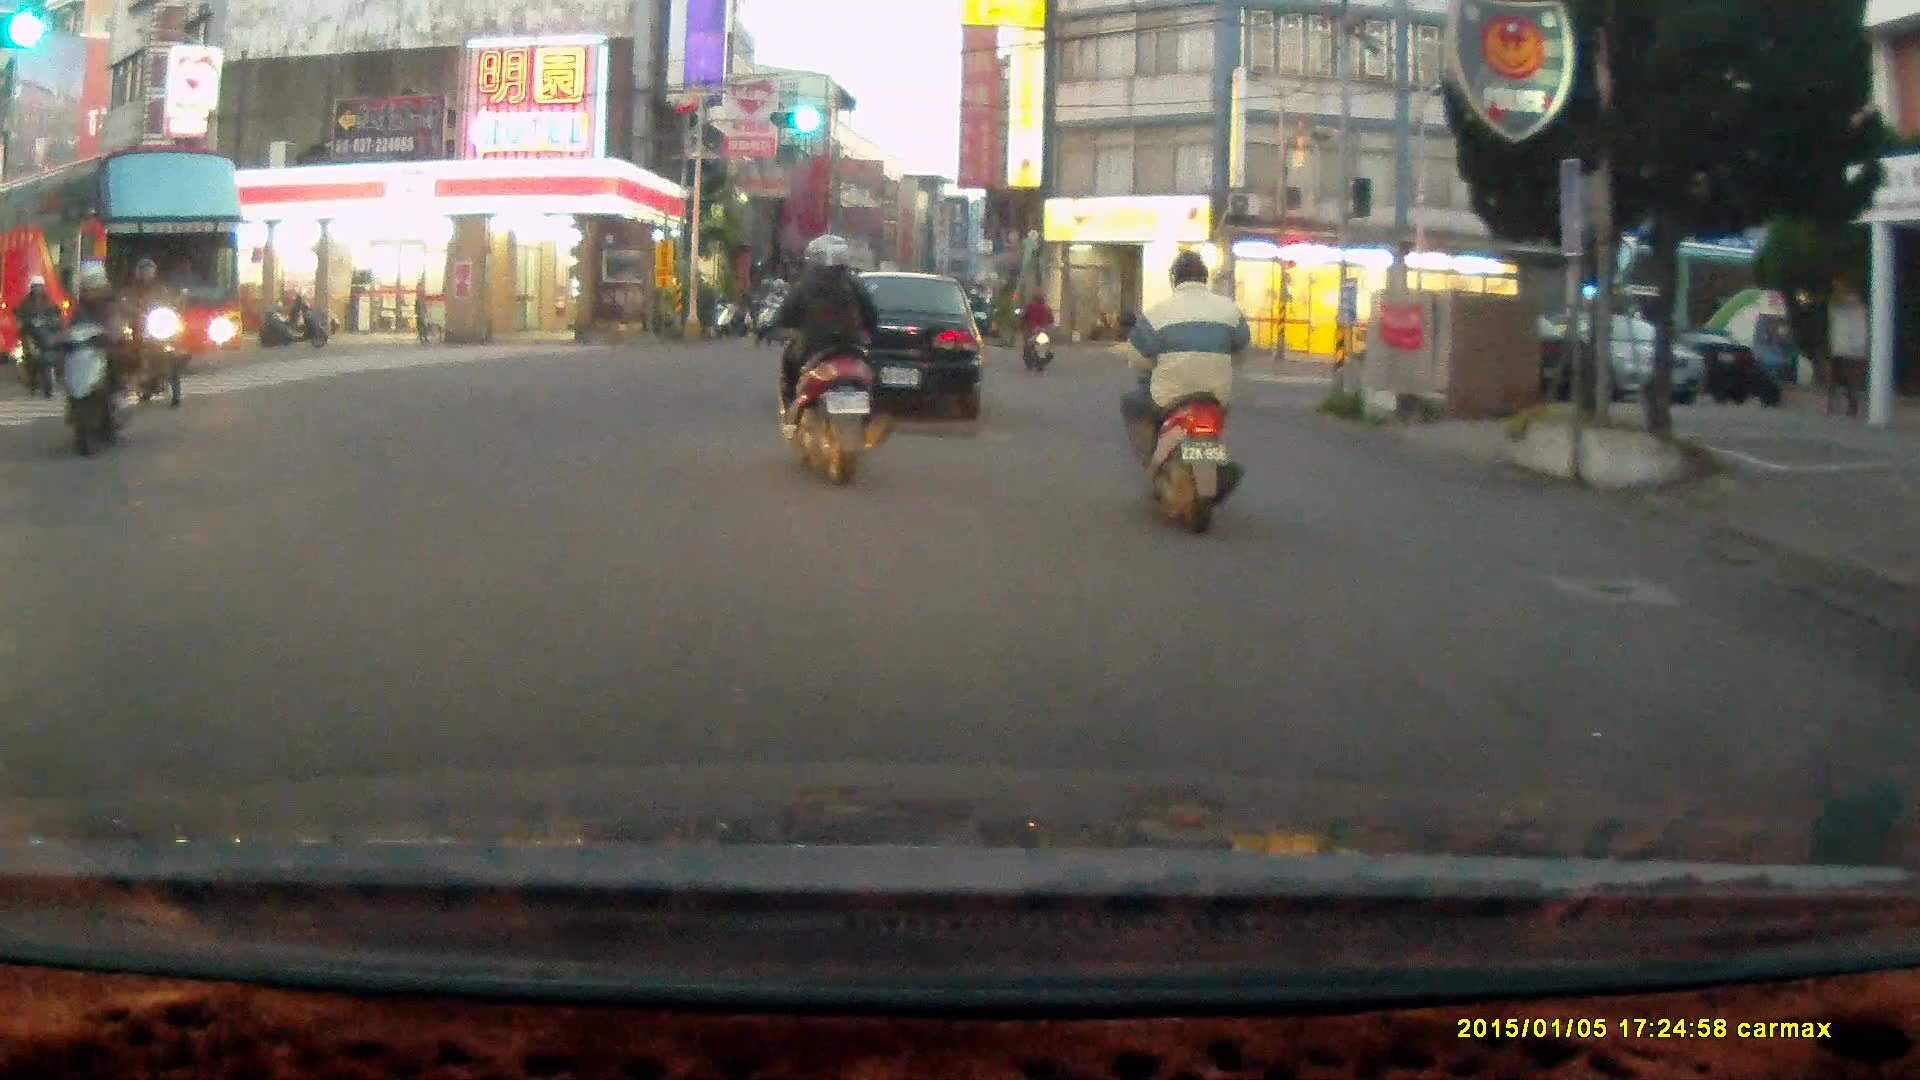rider: (1119, 253, 1244, 542), (765, 229, 896, 493), (47, 256, 131, 457), (110, 251, 178, 414), (13, 270, 61, 395), (1014, 291, 1053, 374), (757, 277, 792, 335)
vehicle: (1, 149, 238, 384), (1487, 310, 1710, 411)
